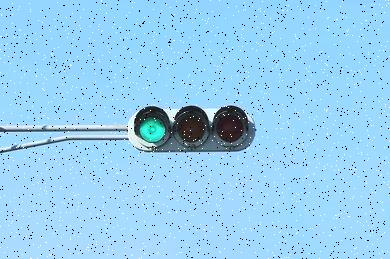cars: (127, 107, 256, 152)
